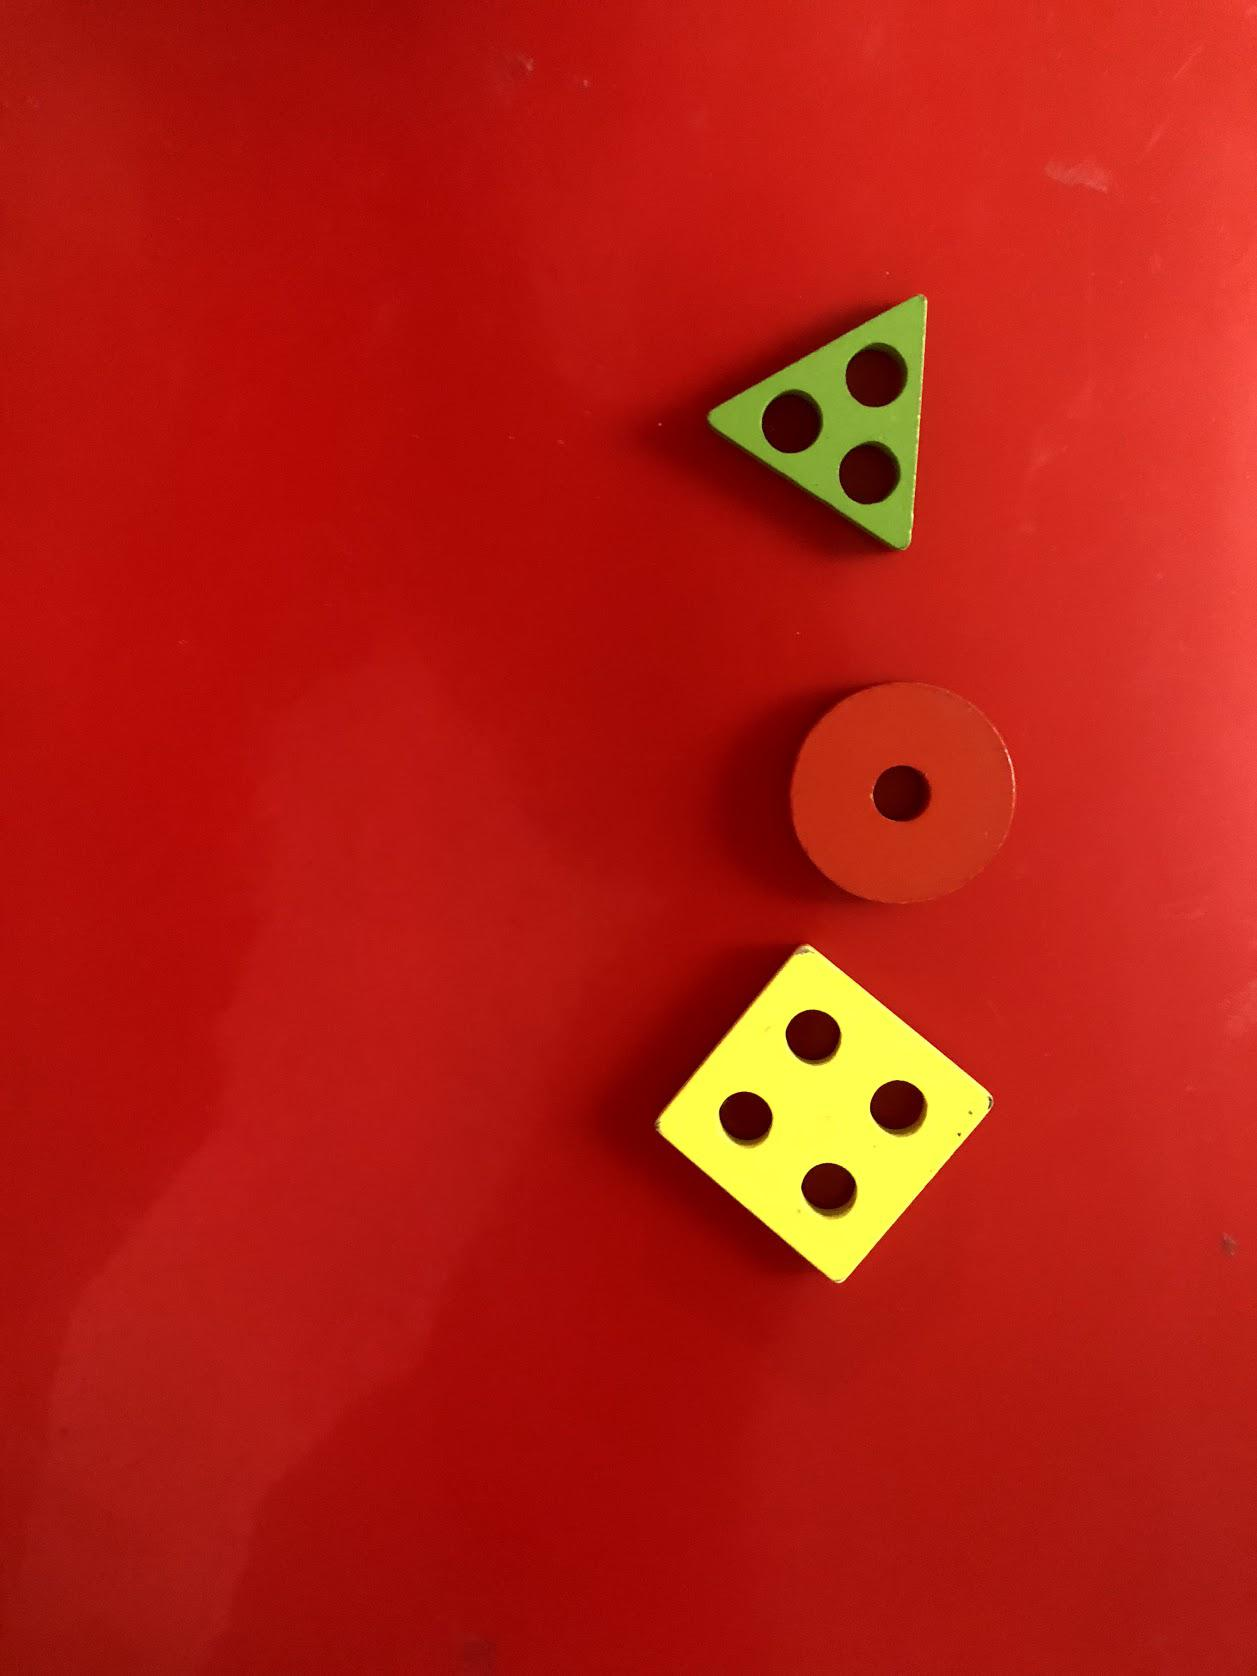Circle: (780, 677, 1025, 912)
Square: (644, 938, 1003, 1289)
Triangle: (702, 289, 944, 558)
